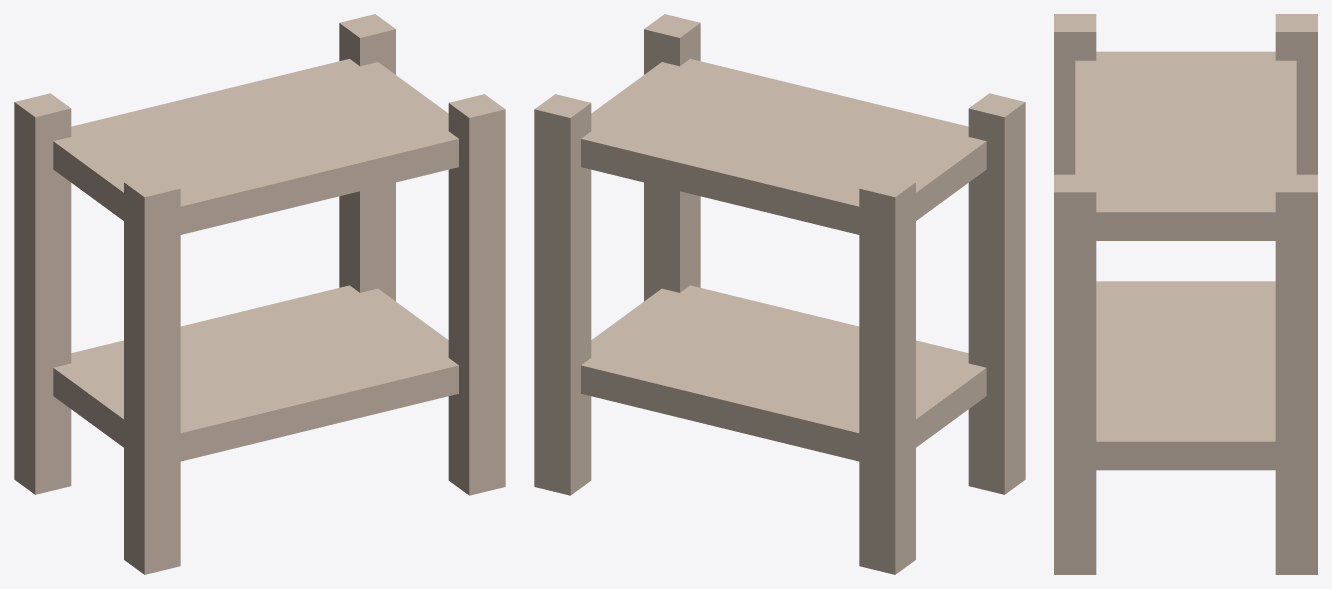
File: furn_bookcaseOpenLow.glb
3 renders of one model, left to right at view 1: azimuth 30°, elevation 25°; view 2: azimuth 150°, elevation 25°; view 3: azimuth 270°, elevation 25°, orthographic.
Size of the model in its own units: 0.8 by 0.8 by 0.5.
